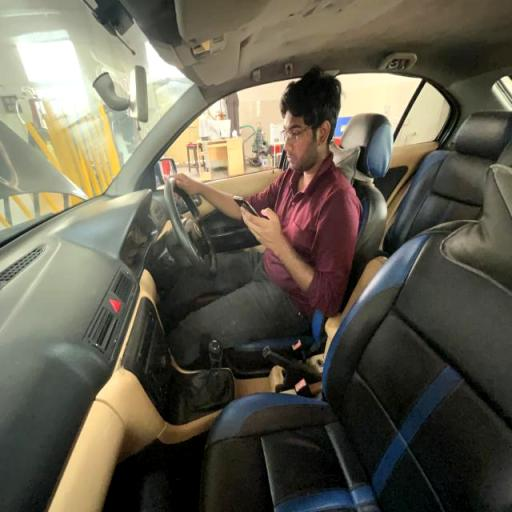Texting_on_phone: (162, 64, 356, 312)
